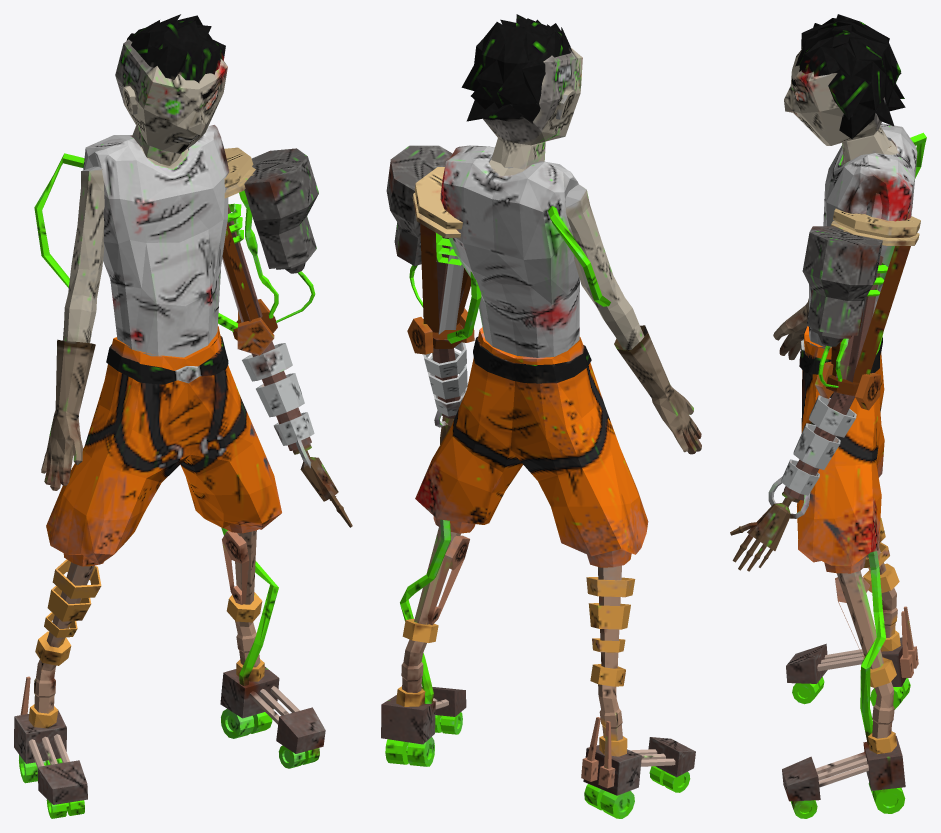
Rendered from CyborgFINALAnimation_000001.obj.
The picture shows the model from 3 angles, left to right: view 1: azimuth 30°, elevation 25°; view 2: azimuth 150°, elevation 25°; view 3: azimuth 270°, elevation 25°; orthographic projection. The views are drawn at different scales.
Parts seen in each view (by area): view 1: CyborgMesh_Cube.002; view 2: CyborgMesh_Cube.002; view 3: CyborgMesh_Cube.002.
Boxes of the visible parts, x1,y1,x2,y2 form: CyborgMesh_Cube.002: [14, 14, 352, 818]; CyborgMesh_Cube.002: [381, 14, 701, 818]; CyborgMesh_Cube.002: [730, 14, 926, 818].
Size of the model in its own units: 3.83 by 9.65 by 2.32.
